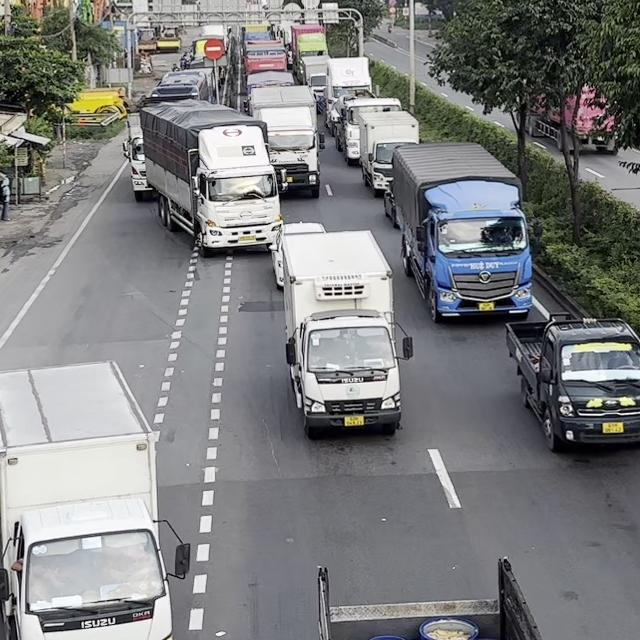truck: (0, 359, 189, 639), (275, 223, 413, 439), (382, 140, 534, 323), (139, 97, 283, 257), (315, 556, 543, 639), (504, 315, 639, 452), (122, 68, 218, 201), (248, 84, 323, 197), (357, 109, 420, 197), (332, 96, 402, 165), (323, 56, 374, 132), (122, 113, 155, 201)
